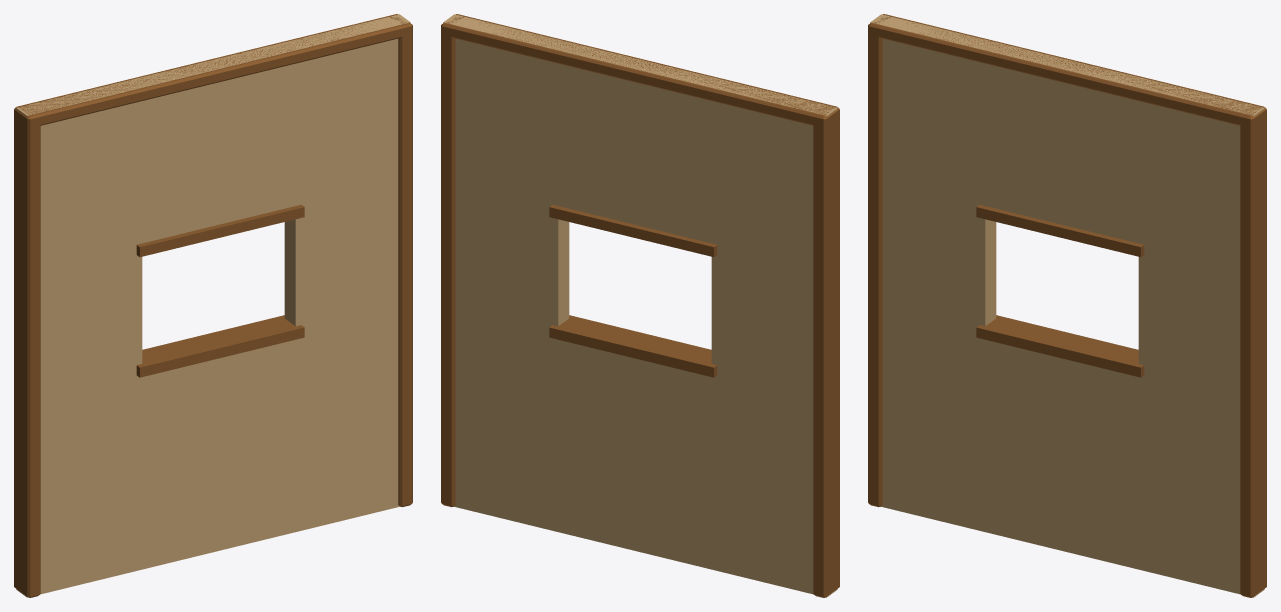
File: wall_window.glb
3 views of the same model, side by side, from view 1: azimuth 30°, elevation 25°; view 2: azimuth 150°, elevation 25°; view 3: azimuth 330°, elevation 25° (orthographic).
Visible parts, largest first — view 1: wall_window; view 2: wall_window; view 3: wall_window.
Part boxes in pixels (left/top/right/bottom): wall_window: left=14, top=14, right=412, bottom=597; wall_window: left=441, top=14, right=839, bottom=597; wall_window: left=868, top=14, right=1266, bottom=597.
Bounding box in the file's own units: 2.01 × 2.4 × 0.16.
